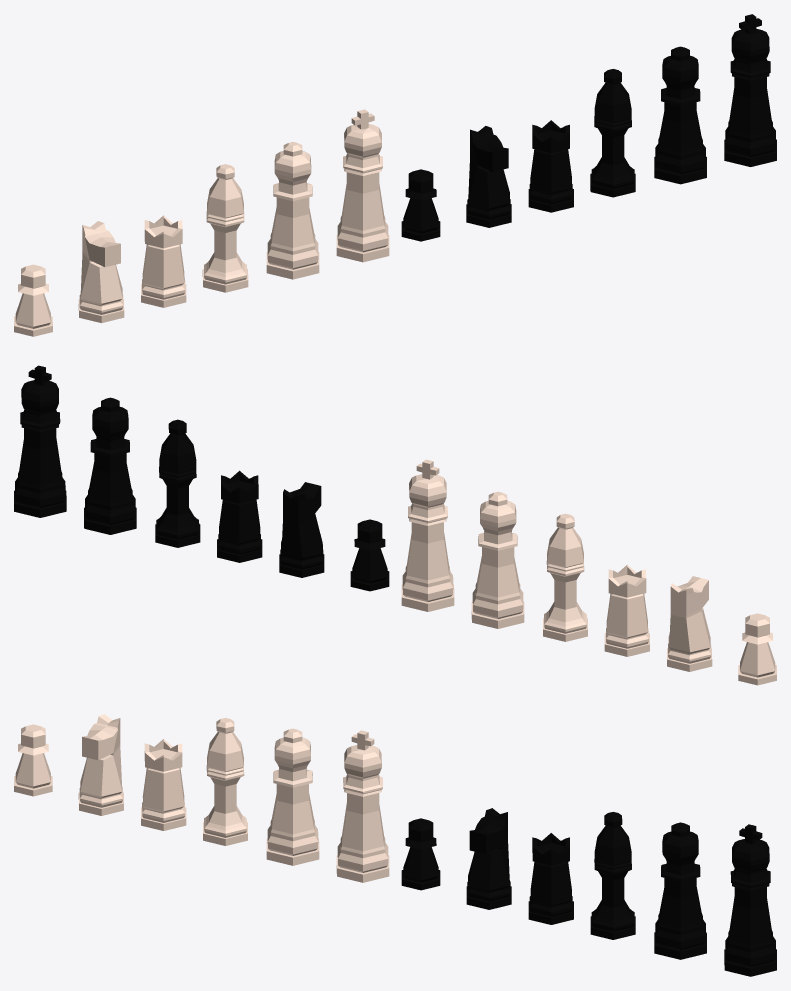
3 renders of one model, top to bottom at view 1: azimuth 30°, elevation 25°; view 2: azimuth 150°, elevation 25°; view 3: azimuth 330°, elevation 25°, orthographic.
Parts seen in each view (by area): view 1: Chess_King_White_7, Chess_King_Black_1, Chess_Queen_White_10, Chess_Queen_Black_4, Chess_Bishop_White_6, Chess_Bishop_Black_0, Chess_Knight_White_8, Chess_Knight_Black_2, Chess_Rook_White_11, Chess_Rook_Black_5, Chess_Pawn_Black_3, Chess_Pawn_White_9; view 2: Chess_King_White_7, Chess_King_Black_1, Chess_Queen_White_10, Chess_Queen_Black_4, Chess_Bishop_Black_0, Chess_Bishop_White_6, Chess_Knight_Black_2, Chess_Knight_White_8, Chess_Rook_White_11, Chess_Rook_Black_5, Chess_Pawn_Black_3, Chess_Pawn_White_9; view 3: Chess_King_White_7, Chess_King_Black_1, Chess_Queen_White_10, Chess_Queen_Black_4, Chess_Bishop_Black_0, Chess_Bishop_White_6, Chess_Knight_Black_2, Chess_Knight_White_8, Chess_Rook_White_11, Chess_Rook_Black_5, Chess_Pawn_Black_3, Chess_Pawn_White_9.
Part boxes in pixels (x1,y1,x2,y2): Chess_King_White_7: (336,109,389,262); Chess_King_Black_1: (724,14,776,166); Chess_Queen_White_10: (266,142,319,279); Chess_Queen_Black_4: (654,46,706,184); Chess_Bishop_White_6: (202,164,248,292); Chess_Bishop_Black_0: (590,69,635,197); Chess_Knight_White_8: (78,221,124,323); Chess_Knight_Black_2: (466,126,511,227); Chess_Rook_White_11: (141,215,186,307); Chess_Rook_Black_5: (528,120,573,212); Chess_Pawn_Black_3: (401,169,440,241); Chess_Pawn_White_9: (14,264,52,336); Chess_King_White_7: (401,459,454,611); Chess_King_Black_1: (14,365,66,517); Chess_Queen_White_10: (471,491,524,628); Chess_Queen_Black_4: (84,397,136,534); Chess_Bishop_Black_0: (155,419,200,547); Chess_Bishop_White_6: (543,513,587,641); Chess_Knight_Black_2: (279,482,324,577); Chess_Knight_White_8: (667,576,712,671); Chess_Rook_White_11: (604,564,649,656); Chess_Rook_Black_5: (217,470,262,562); Chess_Pawn_Black_3: (350,519,389,591); Chess_Pawn_White_9: (738,613,776,685); Chess_King_White_7: (336,730,389,882); Chess_King_Black_1: (724,824,776,976); Chess_Queen_White_10: (266,728,319,865); Chess_Queen_Black_4: (654,822,706,959); Chess_Bishop_Black_0: (590,812,635,939); Chess_Bishop_White_6: (203,718,247,845); Chess_Knight_Black_2: (466,808,511,909); Chess_Knight_White_8: (78,714,123,815); Chess_Rook_White_11: (141,739,186,830); Chess_Rook_Black_5: (528,833,573,924); Chess_Pawn_Black_3: (401,818,440,890); Chess_Pawn_White_9: (14,724,52,796).
Size of the model in its own units: 44.99 by 7.76 by 2.76.
